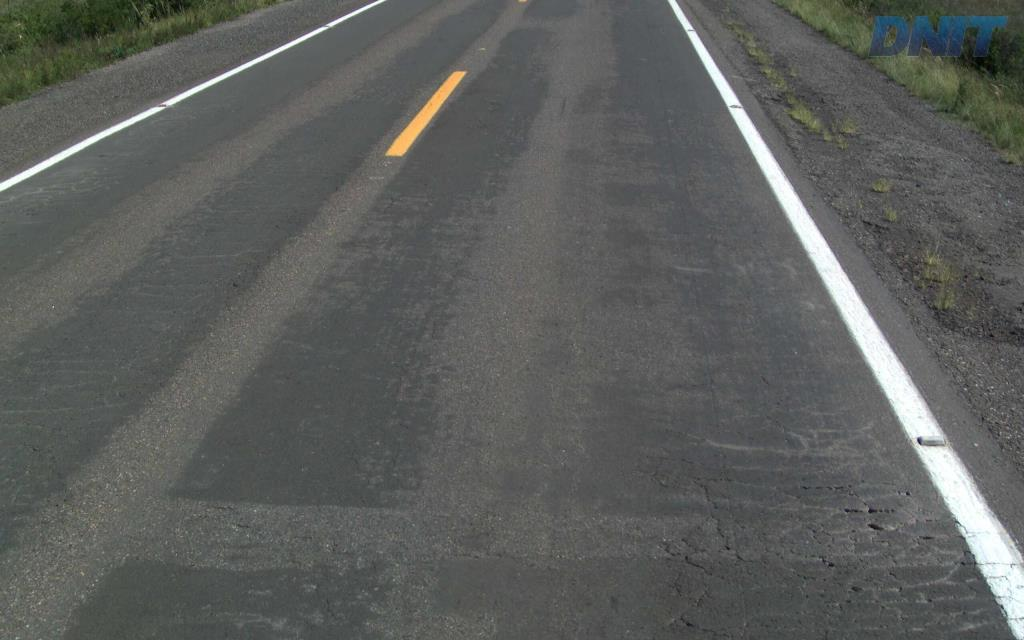crack: (661, 611, 699, 639)
